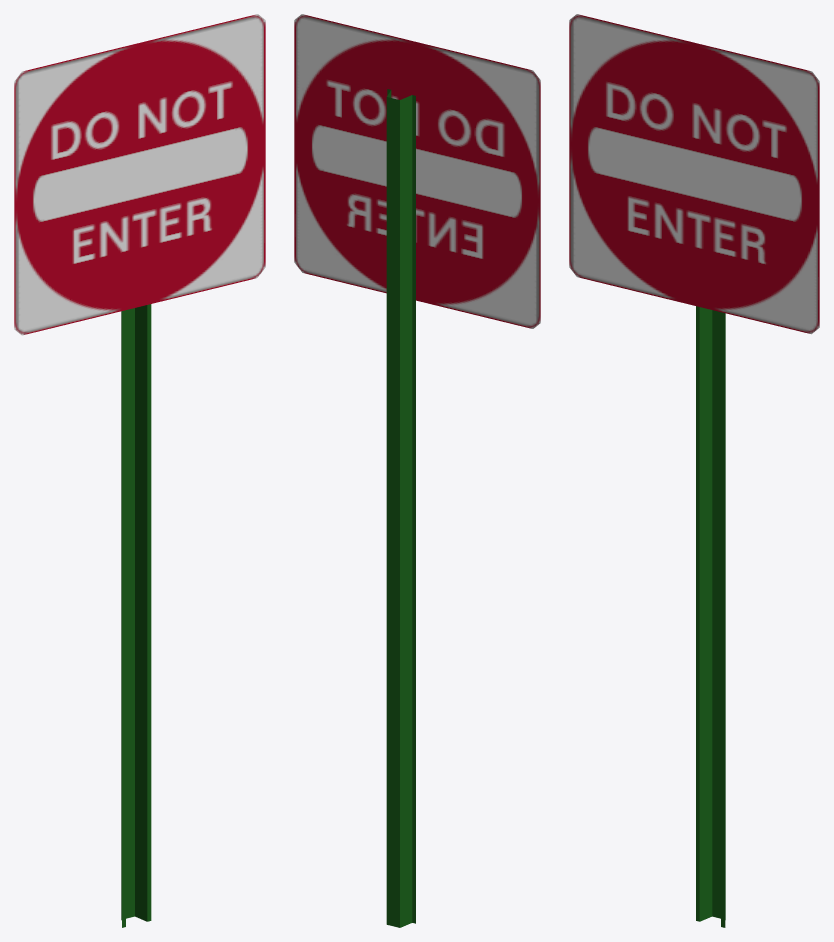
File: DoNotEnterSign.fbx
The picture shows the model from 3 angles, left to right: view 1: azimuth 30°, elevation 25°; view 2: azimuth 150°, elevation 25°; view 3: azimuth 330°, elevation 25°; orthographic projection. The views are drawn at different scales.
Visible parts, largest first — view 1: Component_5_1, Post1; view 2: Component_5_1, Post1; view 3: Component_5_1, Post1.
Boxes of the visible parts, left/top/right/bottom form: Component_5_1: left=14, top=14, right=265, bottom=335; Post1: left=121, top=304, right=151, bottom=927; Component_5_1: left=294, top=14, right=540, bottom=328; Post1: left=386, top=89, right=415, bottom=927; Component_5_1: left=569, top=14, right=819, bottom=334; Post1: left=696, top=306, right=725, bottom=927.
Bounding box in the file's own units: 0.7588 × 2.57 × 0.0953.
